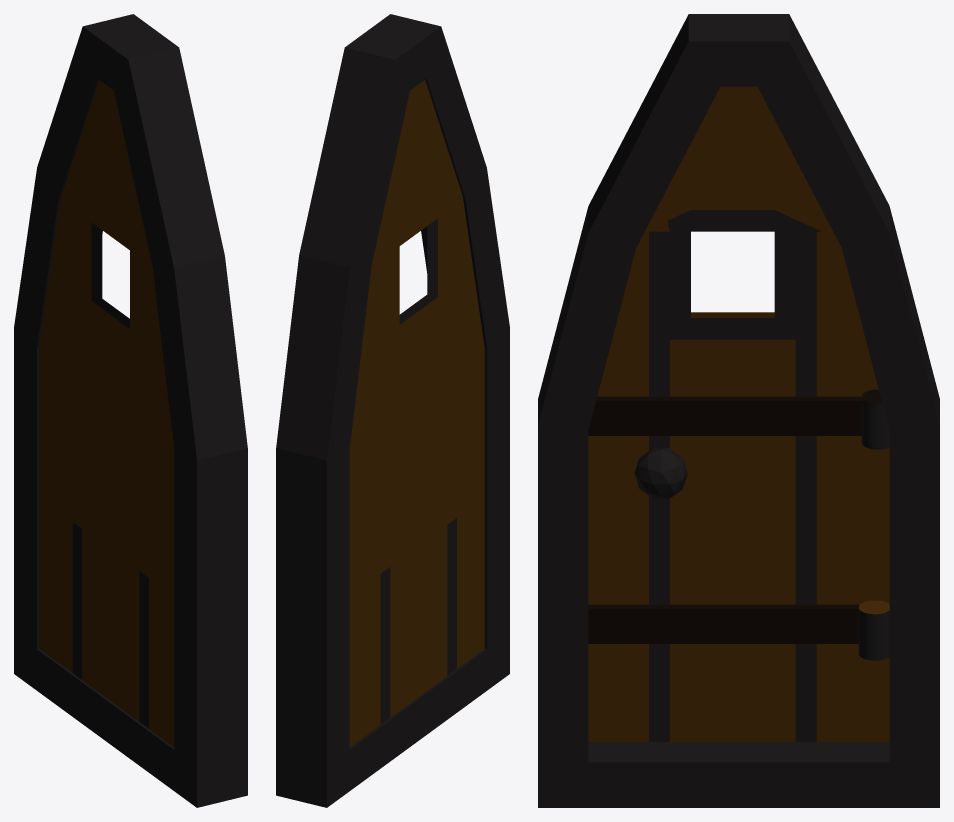
File: Door.fbx
3 renders of one model, left to right at view 1: azimuth 30°, elevation 25°; view 2: azimuth 150°, elevation 25°; view 3: azimuth 270°, elevation 25°, orthographic. The views are drawn at different scales.
Visible parts, largest first — view 1: Cube.001, Cube, Cube.005; view 2: Cube.001, Cube, Cube.005; view 3: Cube.001, Cube, Cube.009, Cube.008, Cube.005, Cube.007, Cube.006, Knob, Cube.003, Cube.002.
Boxes of the visible parts, bbox=[...] form: Cube.001: bbox=[14, 14, 247, 807]; Cube: bbox=[39, 80, 174, 746]; Cube.005: bbox=[92, 223, 129, 328]; Cube.001: bbox=[276, 14, 509, 807]; Cube: bbox=[349, 80, 484, 746]; Cube.005: bbox=[399, 219, 436, 324]; Cube.001: bbox=[538, 14, 939, 807]; Cube: bbox=[588, 86, 889, 741]; Cube.009: bbox=[588, 389, 881, 435]; Cube.008: bbox=[588, 604, 859, 643]; Cube.005: bbox=[667, 210, 797, 339]; Cube.007: bbox=[795, 221, 821, 741]; Cube.006: bbox=[649, 231, 669, 741]; Knob: bbox=[634, 448, 687, 498]; Cube.003: bbox=[858, 608, 889, 660]; Cube.002: bbox=[861, 396, 889, 449].
Bounding box in the file's own units: 38.45 × 505 × 240.
